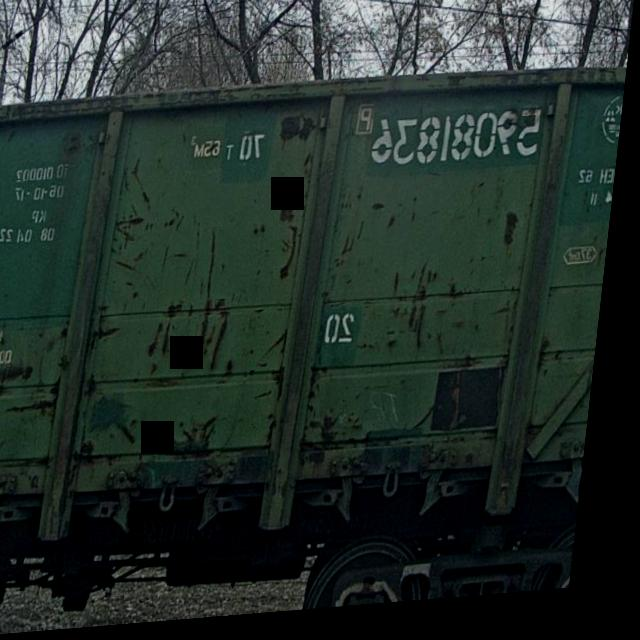gondola: (0, 49, 632, 640)
